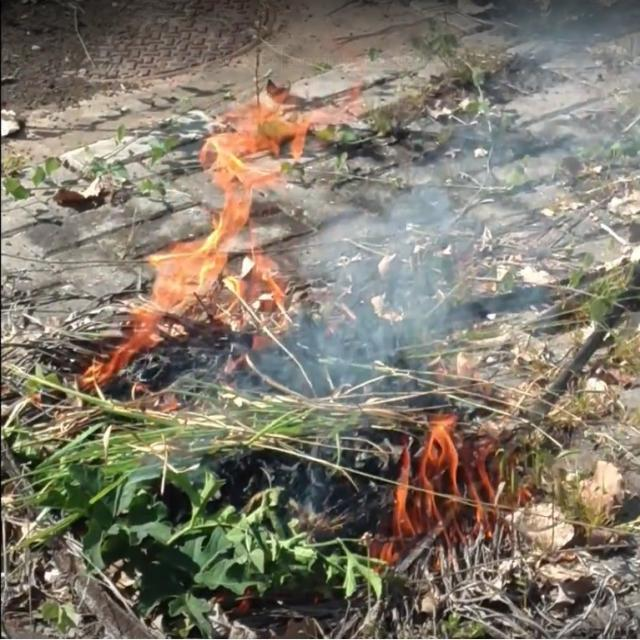fire: (130, 111, 291, 345), (388, 430, 522, 548)
smoke: (320, 224, 434, 364)
